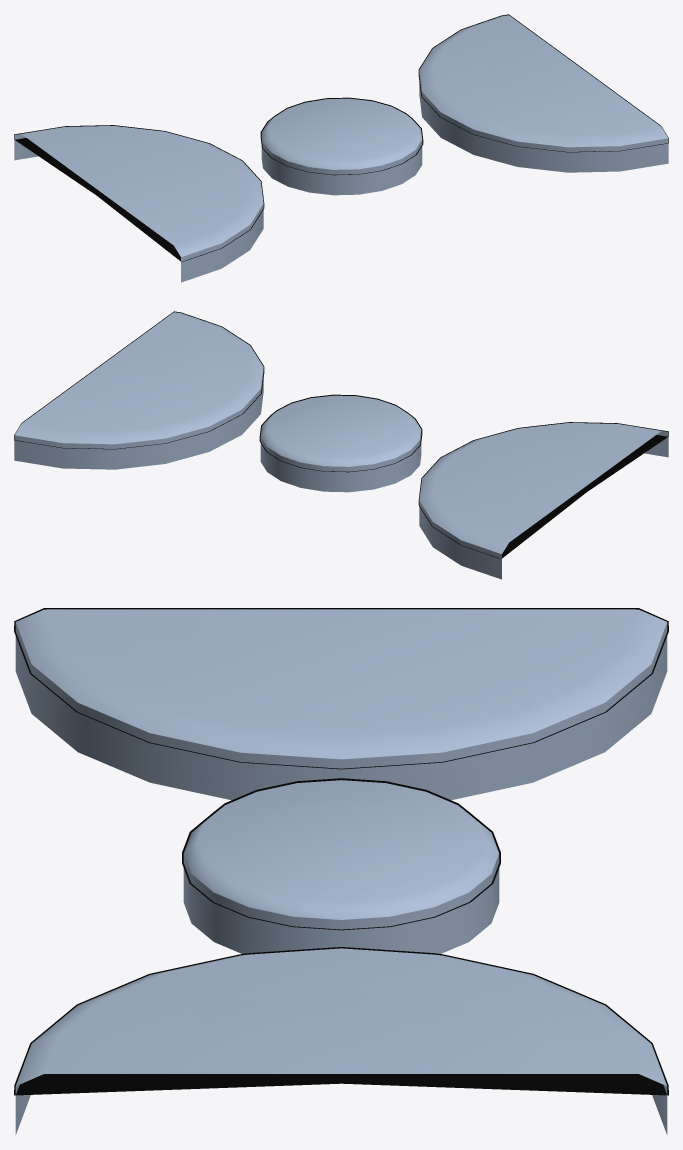
File: Pattern_Cylinder.glb
The picture shows the model from 3 angles, top to bottom: view 1: azimuth 30°, elevation 25°; view 2: azimuth 150°, elevation 25°; view 3: azimuth 270°, elevation 25°; orthographic projection. The views are drawn at different scales.
Parts seen in each view (by area): view 1: Pattern_Cylinder; view 2: Pattern_Cylinder; view 3: Pattern_Cylinder.
Part boxes in pixels (left/top/right/bottom): Pattern_Cylinder: left=14, top=14, right=668, bottom=282; Pattern_Cylinder: left=14, top=311, right=668, bottom=579; Pattern_Cylinder: left=14, top=608, right=668, bottom=1134.
Bounding box in the file's own units: 8.4 × 0.5448 × 4.99.
2 materials, 1 textured.
